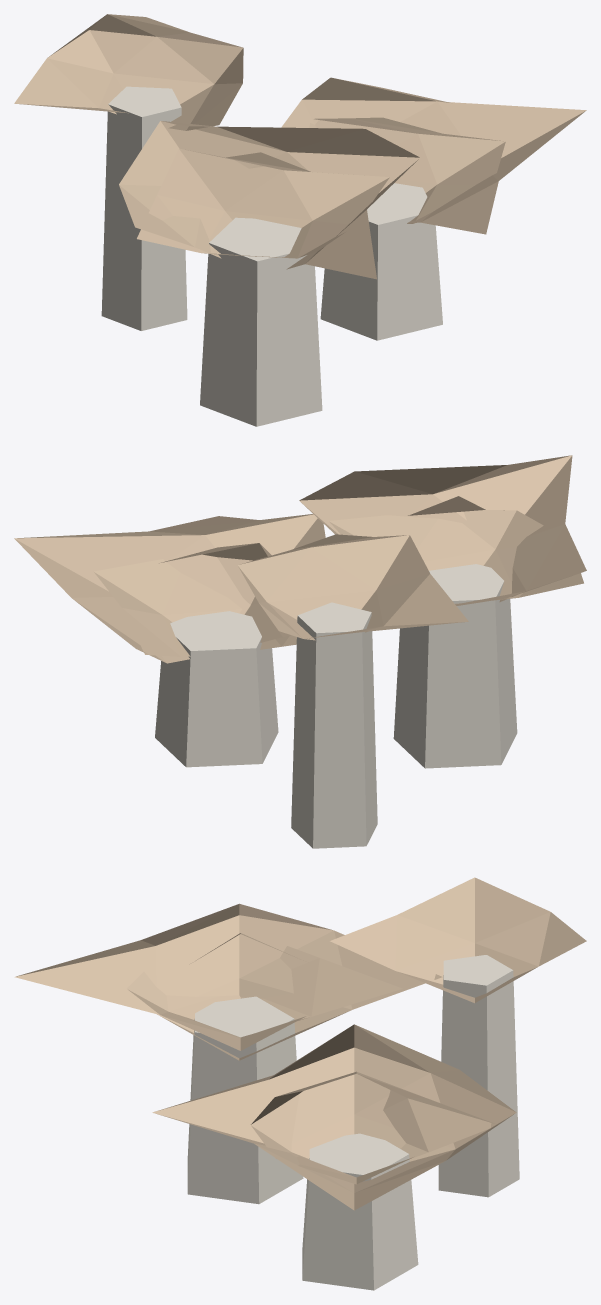
Rendered from mushroom_v15.glb.
The picture shows the model from 3 angles, top to bottom: view 1: azimuth 30°, elevation 25°; view 2: azimuth 150°, elevation 25°; view 3: azimuth 270°, elevation 25°; orthographic projection.
Parts seen in each view (by area): view 1: lod0; view 2: lod0; view 3: lod0.
Boxes of the visible parts, x1,y1,x2,y2 form: lod0: (14,14,586,426); lod0: (14,455,586,848); lod0: (14,877,586,1290).
Size of what is drawn, in the model's own units: 0.8623 by 0.4749 by 0.8443.
